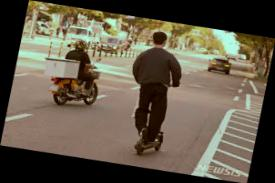nonhelmet: (113, 28, 191, 159)
